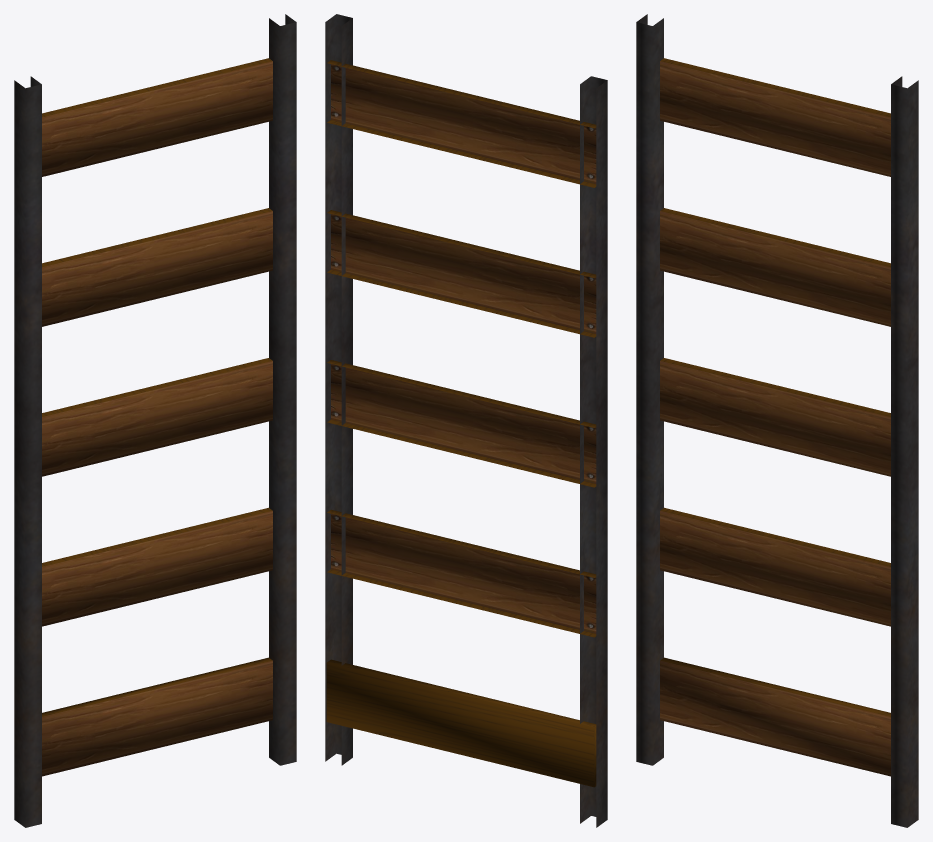
Rendered from Trail.fbx.
3 views of the same model, side by side, from view 1: azimuth 30°, elevation 25°; view 2: azimuth 150°, elevation 25°; view 3: azimuth 330°, elevation 25° (orthographic).
Visible parts, largest first — view 1: Trilho; view 2: Trilho; view 3: Trilho.
Part boxes in pixels (box(x1,y1,x2,y2)): Trilho: box(14, 14, 296, 827); Trilho: box(325, 14, 607, 827); Trilho: box(636, 14, 918, 827).
Size of the model in its own units: 59.94 by 156 by 4.37.
1 material, 1 textured.
